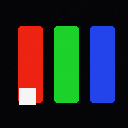1 square: (19, 88, 35, 104)
